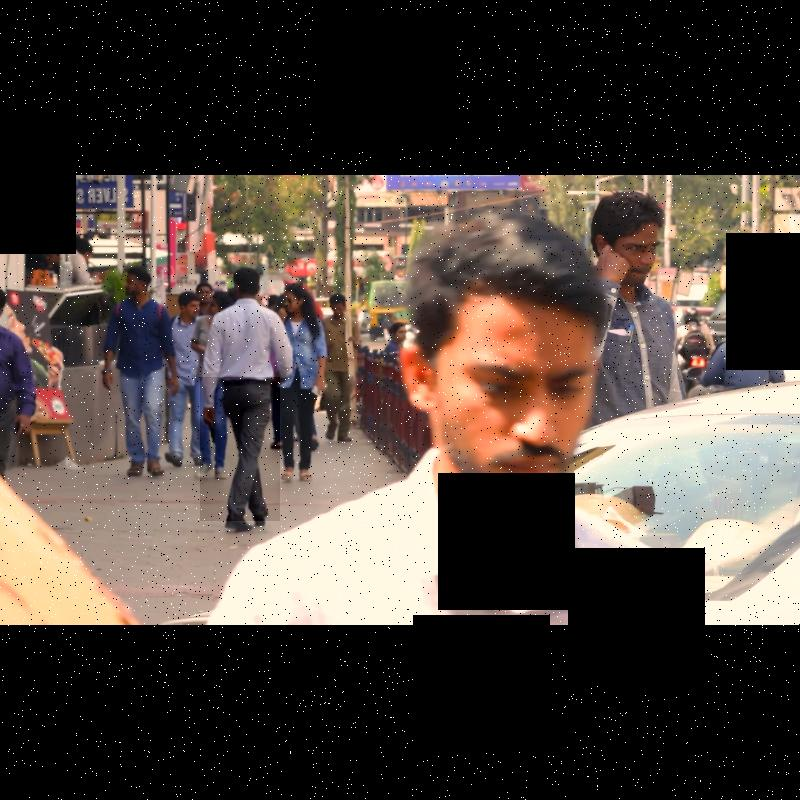Pant: (200, 377, 280, 521)
